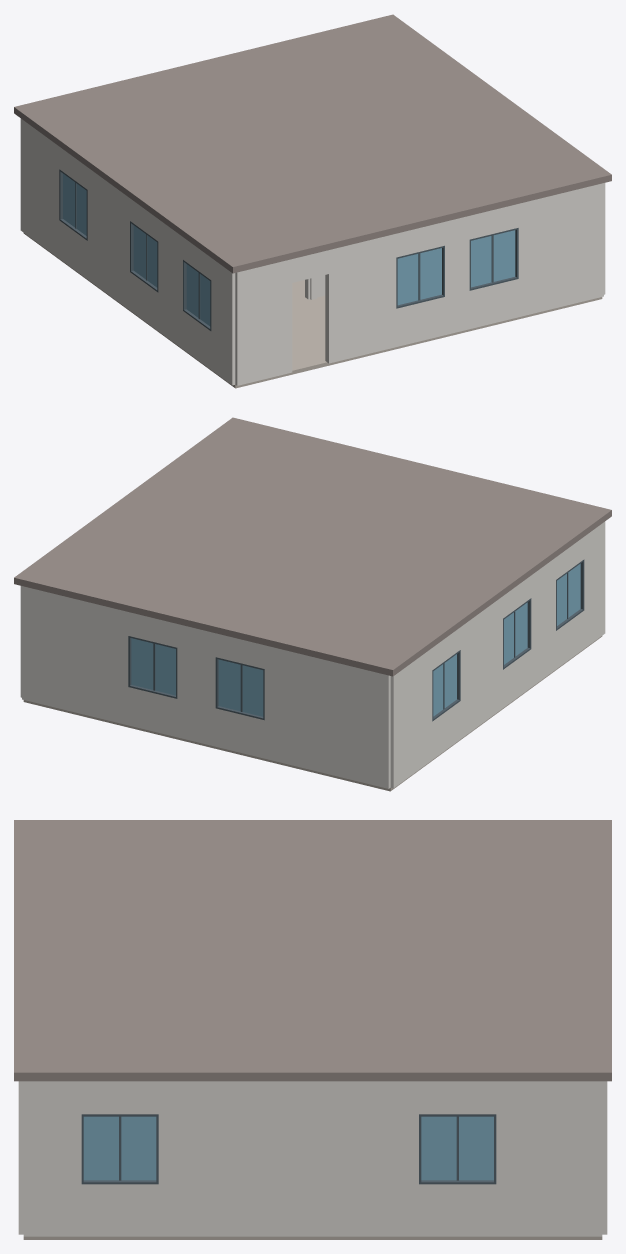
Rendered from home-mtwn57hl.glb.
3 views of the same model, one above another, from view 1: azimuth 30°, elevation 25°; view 2: azimuth 150°, elevation 25°; view 3: azimuth 270°, elevation 25° (orthographic). The views are drawn at different scales.
Visible parts, largest first — view 1: roof_0, wall_0_14, wall_0_12, wall_0_11, wall_0_16, wall_0_15, floor_slab_0, wall_0_13, wall_0_17, wall_0_18, window_0_6_pane, window_0_5_pane (+14 smaller); view 2: roof_0, wall_0_0, wall_0_2, wall_0_16, wall_0_15, wall_0_1, wall_0_17, wall_0_18, window_0_1_pane, window_0_2_pane, wall_0_35, wall_0_38 (+12 smaller); view 3: roof_0, wall_0_28, wall_0_27, wall_0_29, window_0_7_pane, window_0_3_pane, wall_0_41, wall_0_54, wall_0_40, wall_0_53, floor_slab_0, wall_0_2 (+1 smaller).
Boxes of the visible parts, <box> form: roof_0: <box>14,14,611,273</box>; wall_0_14: <box>518,183,603,316</box>; wall_0_12: <box>325,234,396,363</box>; wall_0_11: <box>235,259,292,385</box>; wall_0_16: <box>87,167,129,309</box>; wall_0_15: <box>20,118,59,258</box>; floor_slab_0: <box>23,233,602,388</box>; wall_0_13: <box>445,216,469,335</box>; wall_0_17: <box>158,219,182,348</box>; wall_0_18: <box>211,258,235,385</box>; window_0_6_pane: <box>471,230,515,287</box>; window_0_5_pane: <box>397,248,441,305</box>; roof_0: <box>14,417,611,676</box>; wall_0_0: <box>264,645,390,788</box>; wall_0_2: <box>22,586,128,725</box>; wall_0_16: <box>460,596,502,738</box>; wall_0_15: <box>390,648,432,788</box>; wall_0_1: <box>177,624,215,746</box>; wall_0_17: <box>531,557,555,687</box>; wall_0_18: <box>584,521,605,648</box>; window_0_1_pane: <box>218,659,263,716</box>; window_0_2_pane: <box>131,638,175,695</box>; wall_0_35: <box>215,708,264,758</box>; wall_0_38: <box>128,687,177,737</box>; roof_0: <box>14,820,611,1081</box>; wall_0_28: <box>158,1081,418,1236</box>; wall_0_27: <box>496,1081,602,1236</box>; wall_0_29: <box>23,1081,81,1236</box>; window_0_7_pane: <box>83,1116,156,1180</box>; window_0_3_pane: <box>421,1116,493,1180</box>; wall_0_41: <box>419,1184,496,1236</box>; wall_0_54: <box>81,1184,158,1236</box>; wall_0_40: <box>419,1081,496,1114</box>; wall_0_53: <box>81,1081,158,1114</box>; floor_slab_0: <box>23,1236,602,1239</box>; wall_0_2: <box>602,1081,607,1234</box>.
Size of the model in its own units: 31 by 9.8 by 31.
